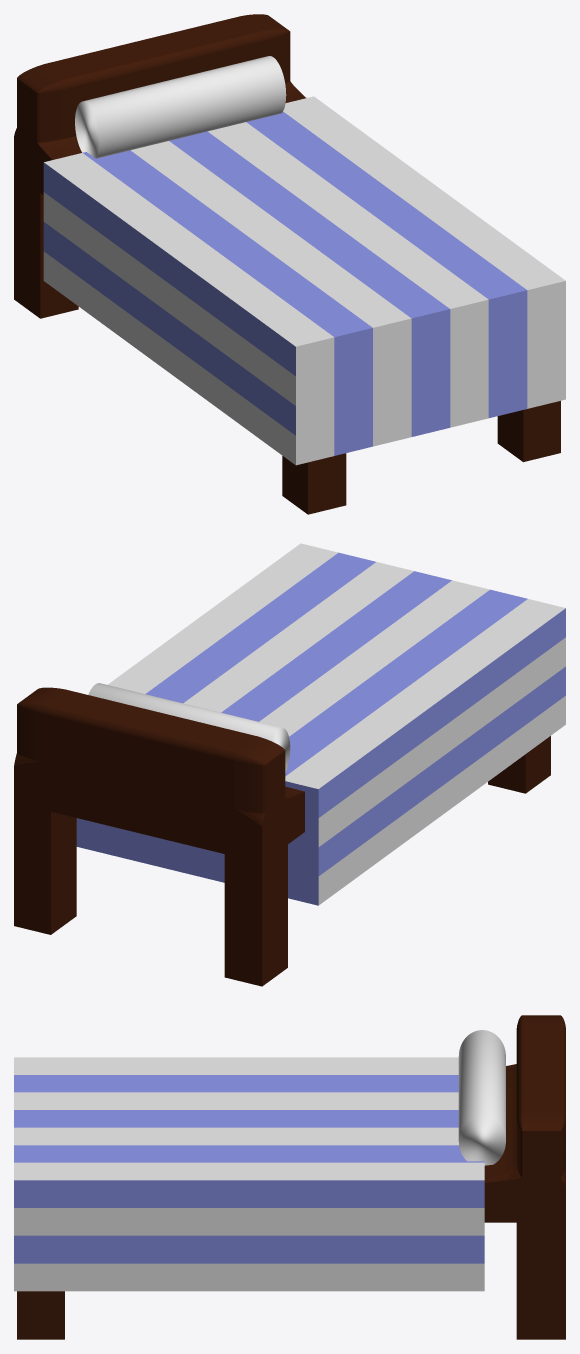
The model's file is bed.fbx.
3 views of the same model, one above another, from view 1: azimuth 30°, elevation 25°; view 2: azimuth 150°, elevation 25°; view 3: azimuth 270°, elevation 25° (orthographic). The views are drawn at different scales.
Parts seen in each view (by area): view 1: Cube.001, Cube, Cylinder; view 2: Cube.001, Cube, Cylinder; view 3: Cube.001, Cube, Cylinder.
Boxes of the visible parts, x1,y1,x2,y2 form: Cube.001: (43,96,565,465); Cube: (14,14,560,514); Cylinder: (75,56,286,158); Cube.001: (76,543,565,905); Cube: (14,687,550,986); Cylinder: (88,683,290,772); Cube.001: (14,1057,484,1291); Cube: (17,1015,565,1339); Cylinder: (458,1030,505,1165).
Bounding box in the file's own units: 57.55 × 46.96 × 109.
